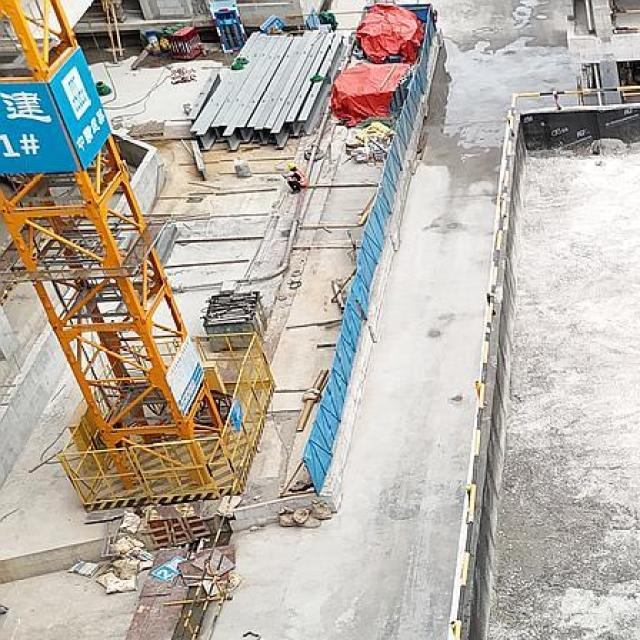edge_guardrail: (448, 81, 640, 639), (611, 8, 640, 32)
